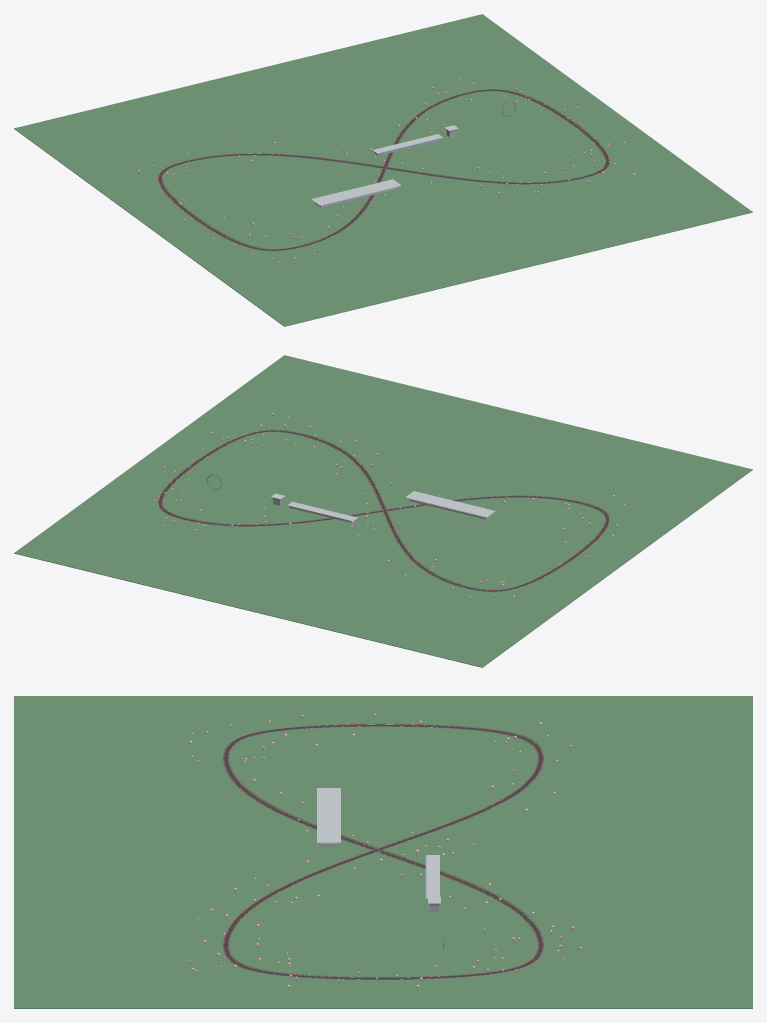
Rendered from suzaka.glb.
3 views of the same model, one above another, from view 1: azimuth 30°, elevation 25°; view 2: azimuth 150°, elevation 25°; view 3: azimuth 270°, elevation 25° (orthographic). The views are drawn at different scales.
Parts seen in each view (by area): view 1: Terreno-suzaka, Asfalto-suzaka, Tribuna-cubierta, Proteccion--1, Proteccion-1; view 2: Terreno-suzaka, Asfalto-suzaka, Tribuna-cubierta, Proteccion-1, Proteccion--1; view 3: Terreno-suzaka, Asfalto-suzaka, Tribuna-cubierta, Proteccion-1, Proteccion--1, Piano-rojo-1, Piano-rojo--1, Paddock-cubierta.
Boxes of the visible parts, x1,y1,x2,y2 form: Terreno-suzaka: (14, 14, 752, 326); Asfalto-suzaka: (158, 89, 609, 250); Tribuna-cubierta: (311, 179, 401, 205); Proteccion--1: (164, 89, 607, 249); Proteccion-1: (158, 91, 602, 251); Terreno-suzaka: (14, 355, 752, 667); Asfalto-suzaka: (158, 430, 609, 591); Tribuna-cubierta: (405, 491, 495, 517); Proteccion-1: (163, 431, 608, 591); Proteccion--1: (158, 429, 602, 589); Terreno-suzaka: (14, 696, 752, 1008); Asfalto-suzaka: (223, 724, 543, 979); Tribuna-cubierta: (317, 788, 340, 842); Proteccion-1: (222, 723, 542, 977); Proteccion--1: (224, 726, 543, 979); Piano-rojo-1: (223, 724, 543, 977); Piano-rojo--1: (223, 726, 543, 979); Paddock-cubierta: (425, 855, 439, 898).
Size of the model in its own units: 2170 by 75.1 by 2170.
